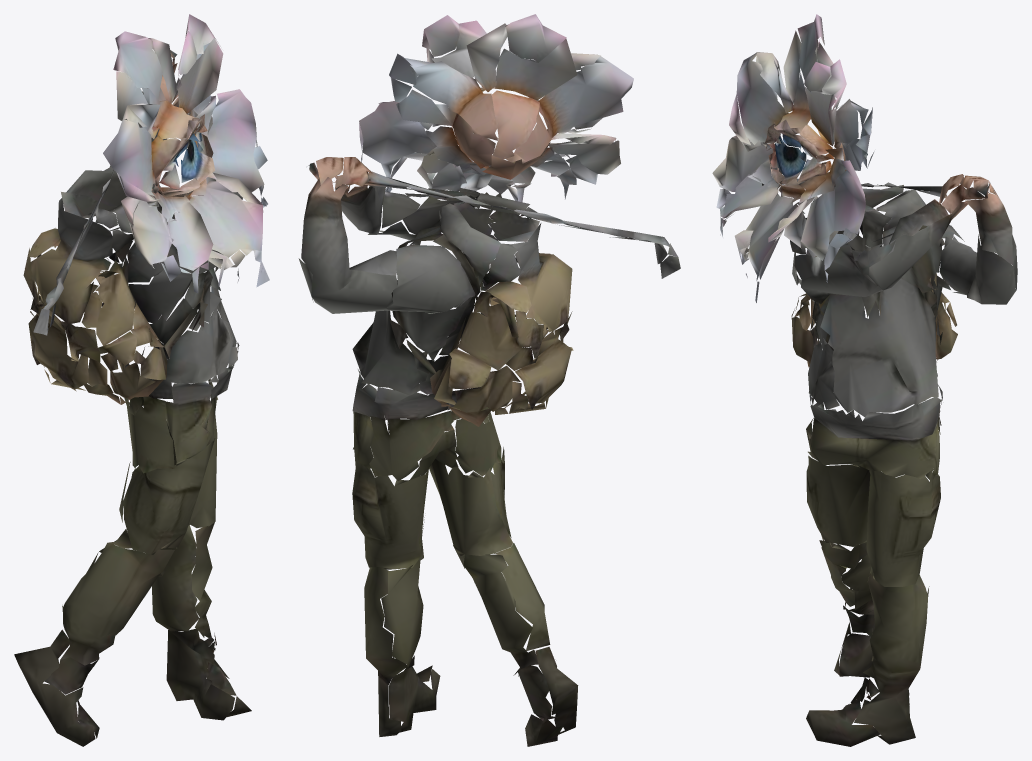
File: crowd_golfer.glb
3 renders of one model, left to right at view 1: azimuth 30°, elevation 25°; view 2: azimuth 150°, elevation 25°; view 3: azimuth 270°, elevation 25°, orthographic. The views are drawn at different scales.
Visible parts, largest first — view 1: tripo_node_33ec3091-d645-4af4-82c2-31afd24b9fee; view 2: tripo_node_33ec3091-d645-4af4-82c2-31afd24b9fee; view 3: tripo_node_33ec3091-d645-4af4-82c2-31afd24b9fee.
Boxes of the visible parts, bbox=[...] form: tripo_node_33ec3091-d645-4af4-82c2-31afd24b9fee: bbox=[14, 14, 269, 746]; tripo_node_33ec3091-d645-4af4-82c2-31afd24b9fee: bbox=[298, 14, 680, 746]; tripo_node_33ec3091-d645-4af4-82c2-31afd24b9fee: bbox=[712, 14, 1017, 746].
Bounding box in the file's own units: 0.7537 × 1.88 × 0.7678.
Materials: 1 (1 with a texture image).
